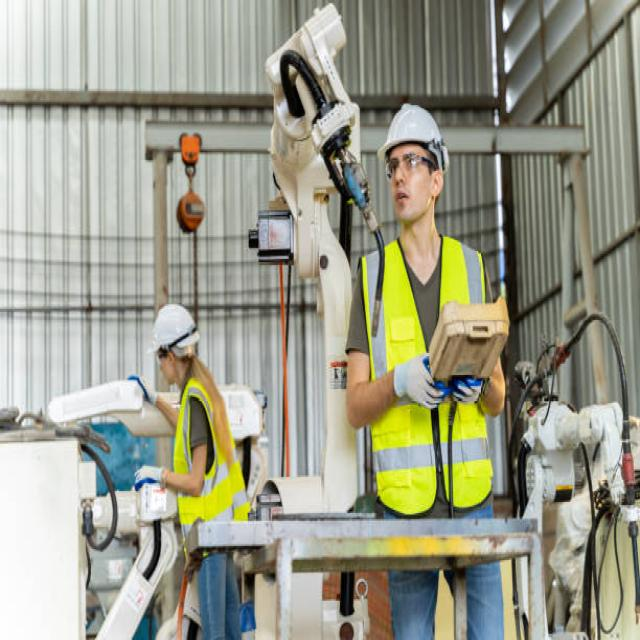Robotic-arm: (248, 0, 374, 515)
